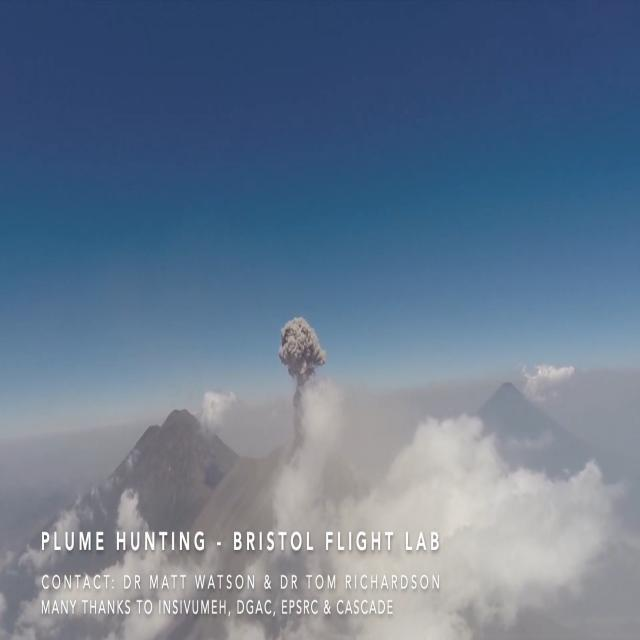Plume: (272, 314, 329, 386)
